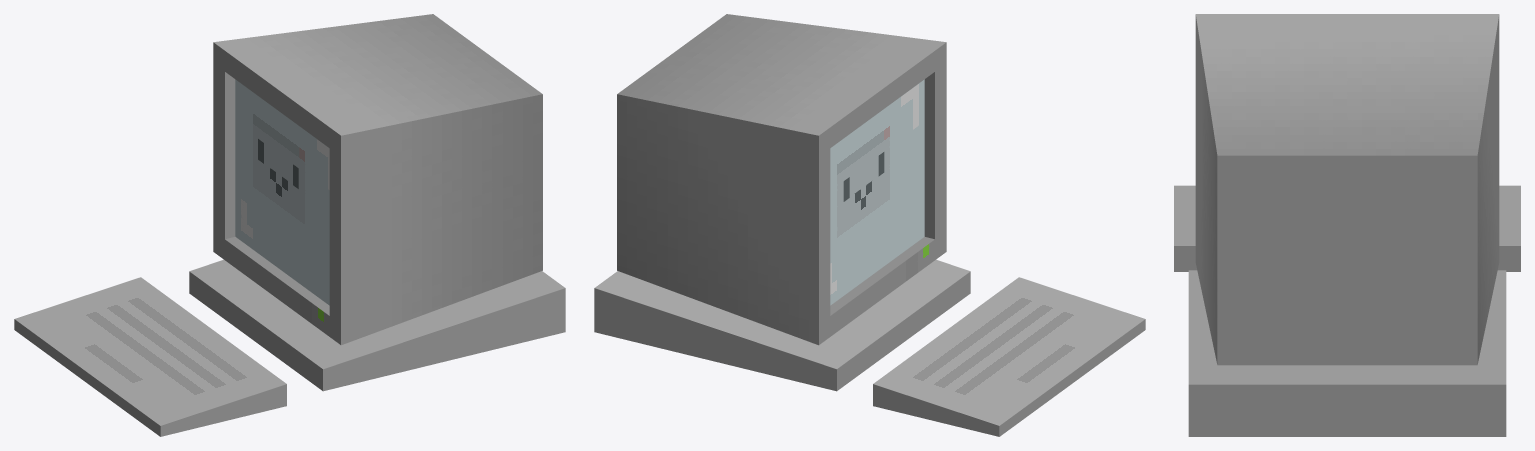
3 renders of one model, left to right at view 1: azimuth 30°, elevation 25°; view 2: azimuth 150°, elevation 25°; view 3: azimuth 270°, elevation 25°, orthographic. The views are drawn at different scales.
Parts seen in each view (by area): view 1: screen, keyboard, base; view 2: screen, keyboard, base; view 3: screen, base, keyboard.
Part boxes in pixels (x1,y1,x2,y2): screen: (213,14,542,345); keyboard: (14,277,286,436); base: (189,259,565,391); screen: (617,14,946,345); keyboard: (873,277,1145,436); base: (594,259,970,391); screen: (1195,14,1499,365); base: (1188,270,1506,436); keyboard: (1174,185,1520,271).
Bounding box in the file's own units: 1.22 × 0.7031 × 0.75.
3 materials, 3 textured.
